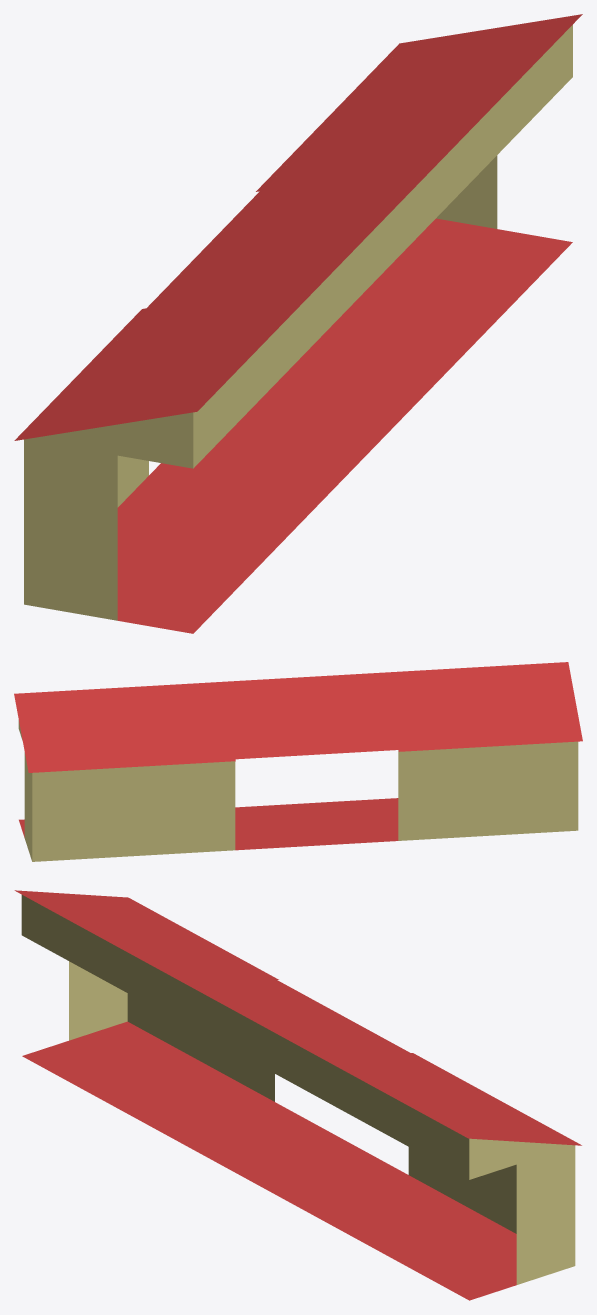
The picture shows the model from 3 angles, top to bottom: view 1: azimuth 30°, elevation 25°; view 2: azimuth 150°, elevation 25°; view 3: azimuth 270°, elevation 25°; orthographic projection. The views are drawn at different scales.
Size of the model in its own units: 30.35 by 25.54 by 8.19.
